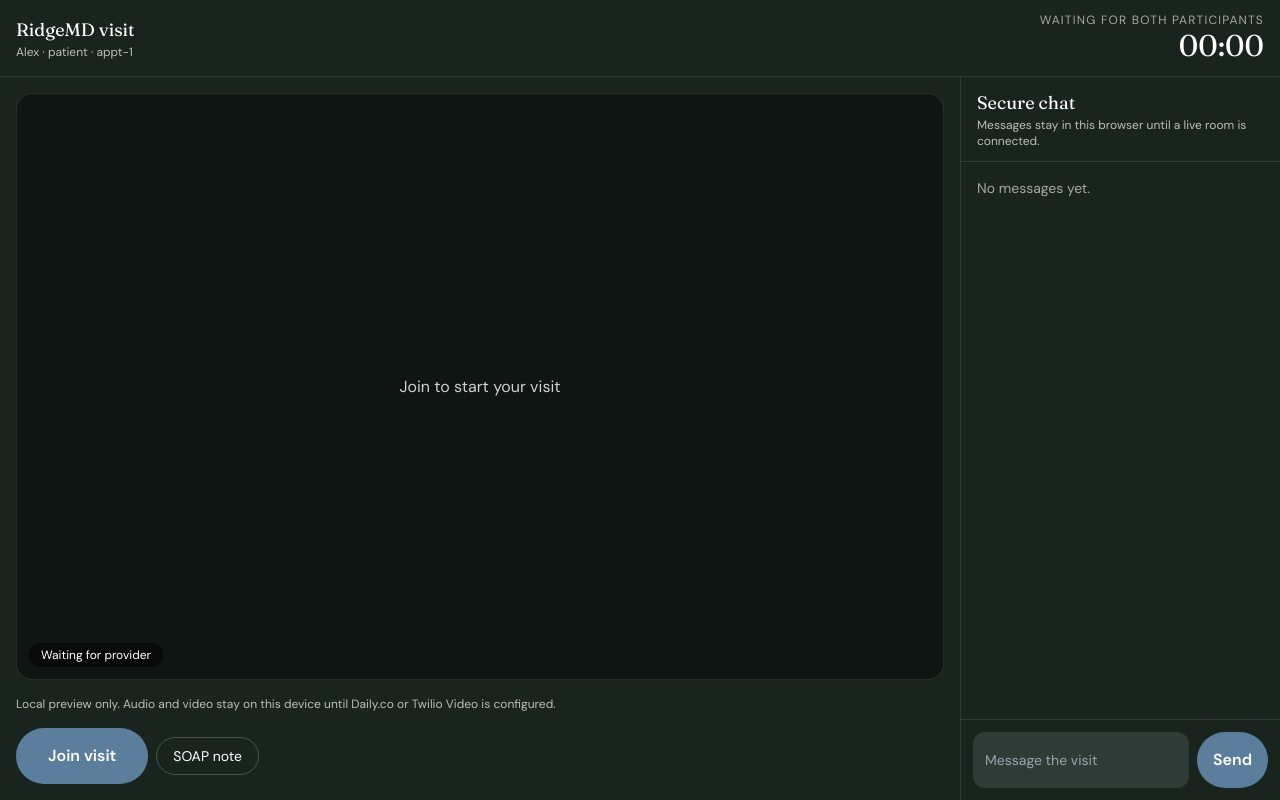
ConsultationRoom › starts the timer only after both parties join and logs duration on leave
Expected: the text with test id "session-timer" reads "00:00", x1=1179 y1=27 x2=1264 y2=64
Click the button with test id "join-visit" at (82, 756), box x1=16 y1=728 x2=148 y2=784
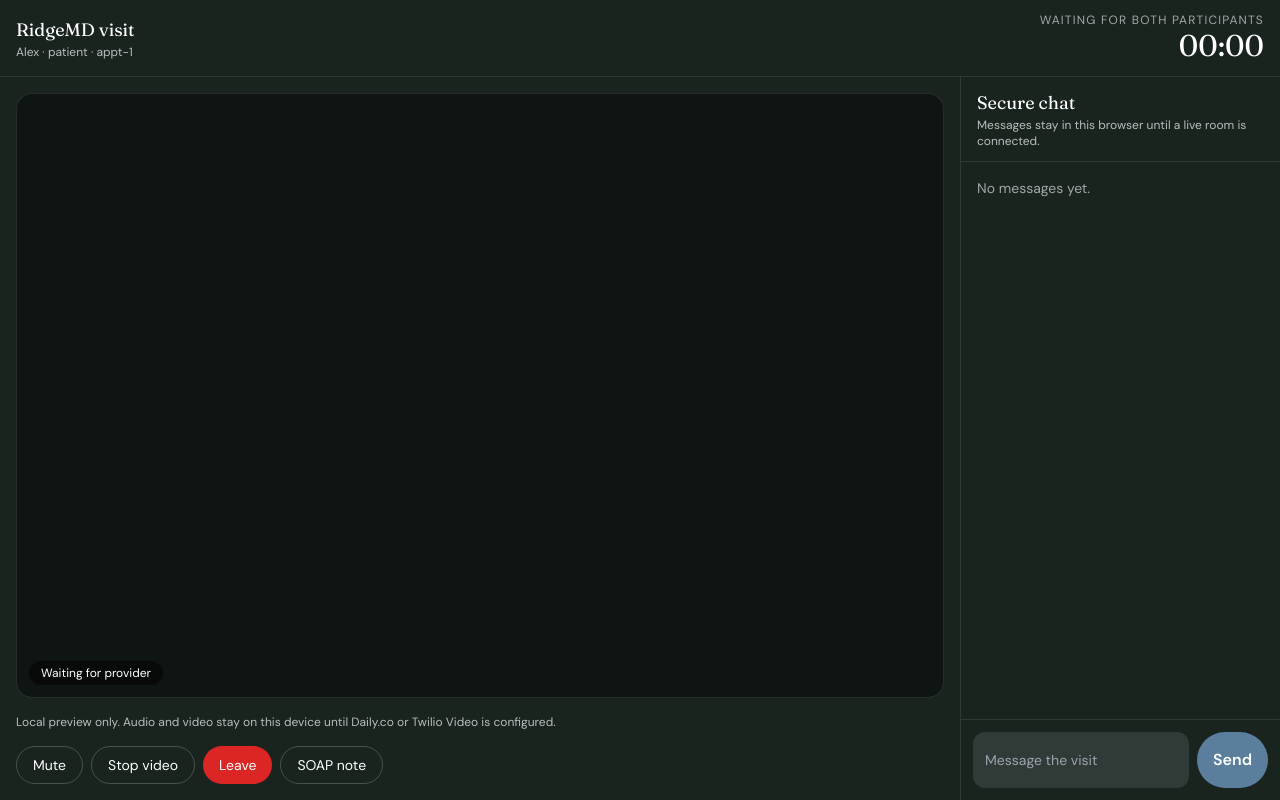
Click the button with test id "leave-visit" at (238, 765), box x1=203 y1=746 x2=272 y2=784
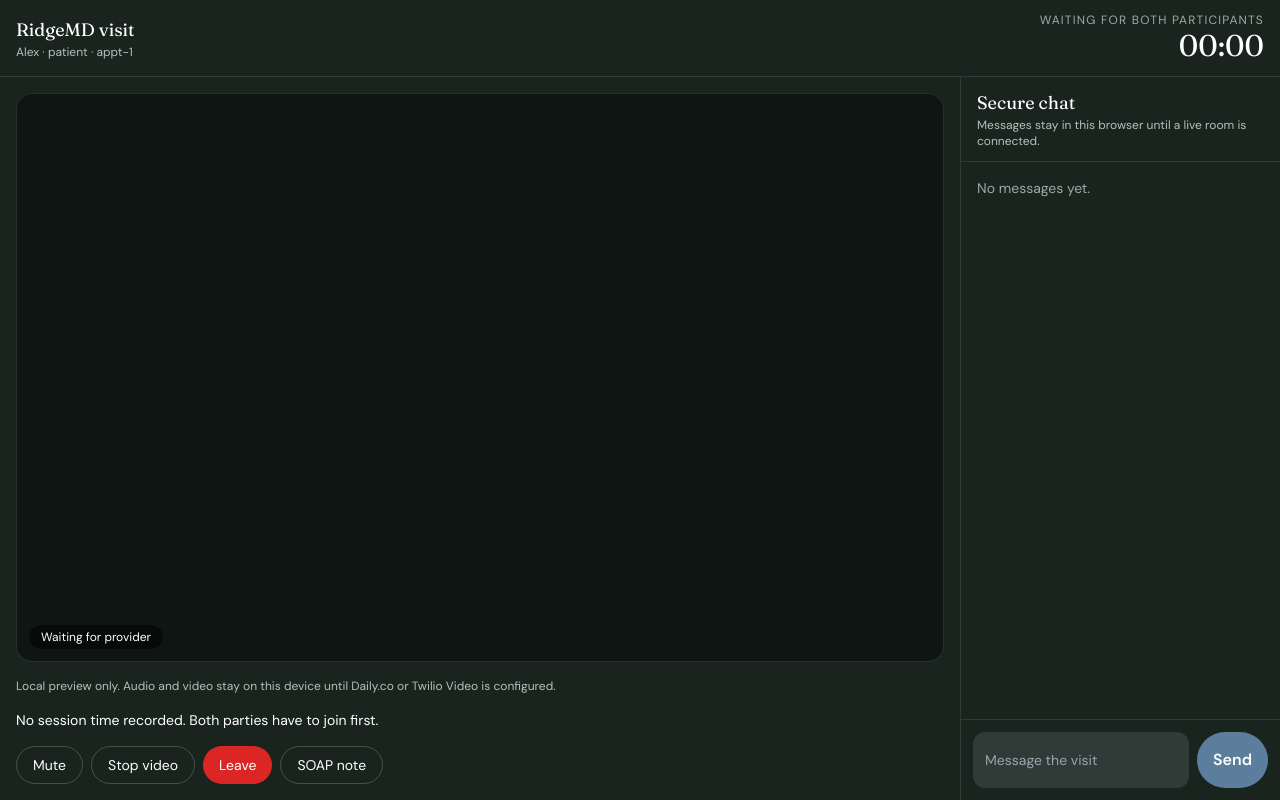
Result: the message shows "Both parties" at x1=16 y1=711 x2=378 y2=729
